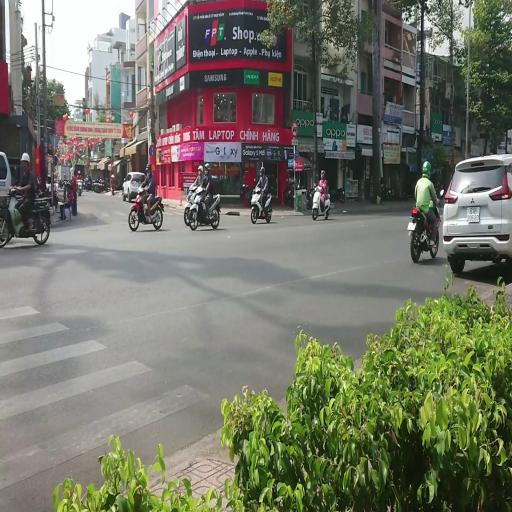bikes: (0, 186, 51, 247), (407, 198, 441, 262), (128, 186, 163, 231), (188, 187, 220, 230), (250, 185, 272, 223), (312, 183, 330, 220), (183, 186, 199, 225), (284, 177, 300, 205), (240, 183, 252, 206), (93, 176, 108, 193), (306, 185, 316, 208), (338, 187, 346, 203), (76, 180, 82, 196)
helmet: (422, 161, 431, 177), (20, 152, 30, 162), (146, 163, 152, 173), (259, 166, 265, 176), (36, 173, 41, 185), (204, 163, 210, 172), (189, 184, 196, 191), (137, 186, 143, 194), (198, 166, 203, 174), (321, 170, 325, 178), (111, 174, 114, 178), (78, 170, 80, 175), (64, 174, 66, 179)
